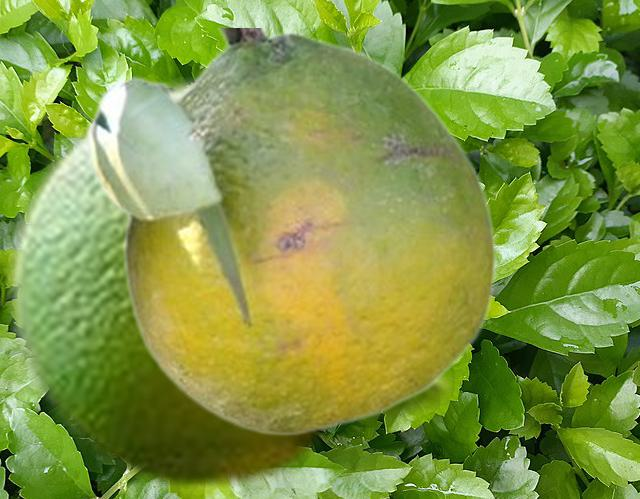dalandan: (2, 68, 458, 490), (83, 28, 497, 435)
